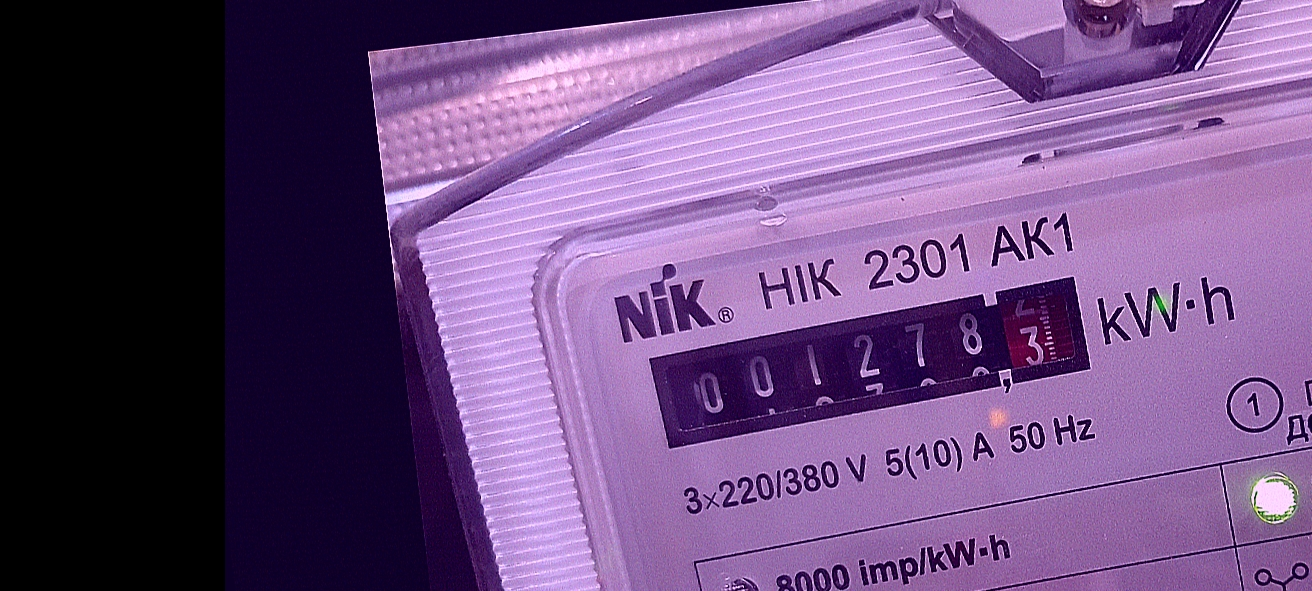0: (694, 366, 726, 417), (744, 352, 775, 401)
1: (801, 339, 824, 387)
2: (850, 331, 881, 380), (1010, 296, 1036, 318)
3: (1015, 322, 1047, 369)
7: (901, 320, 929, 369)
8: (955, 310, 984, 357)
screen: (629, 262, 1112, 463)
